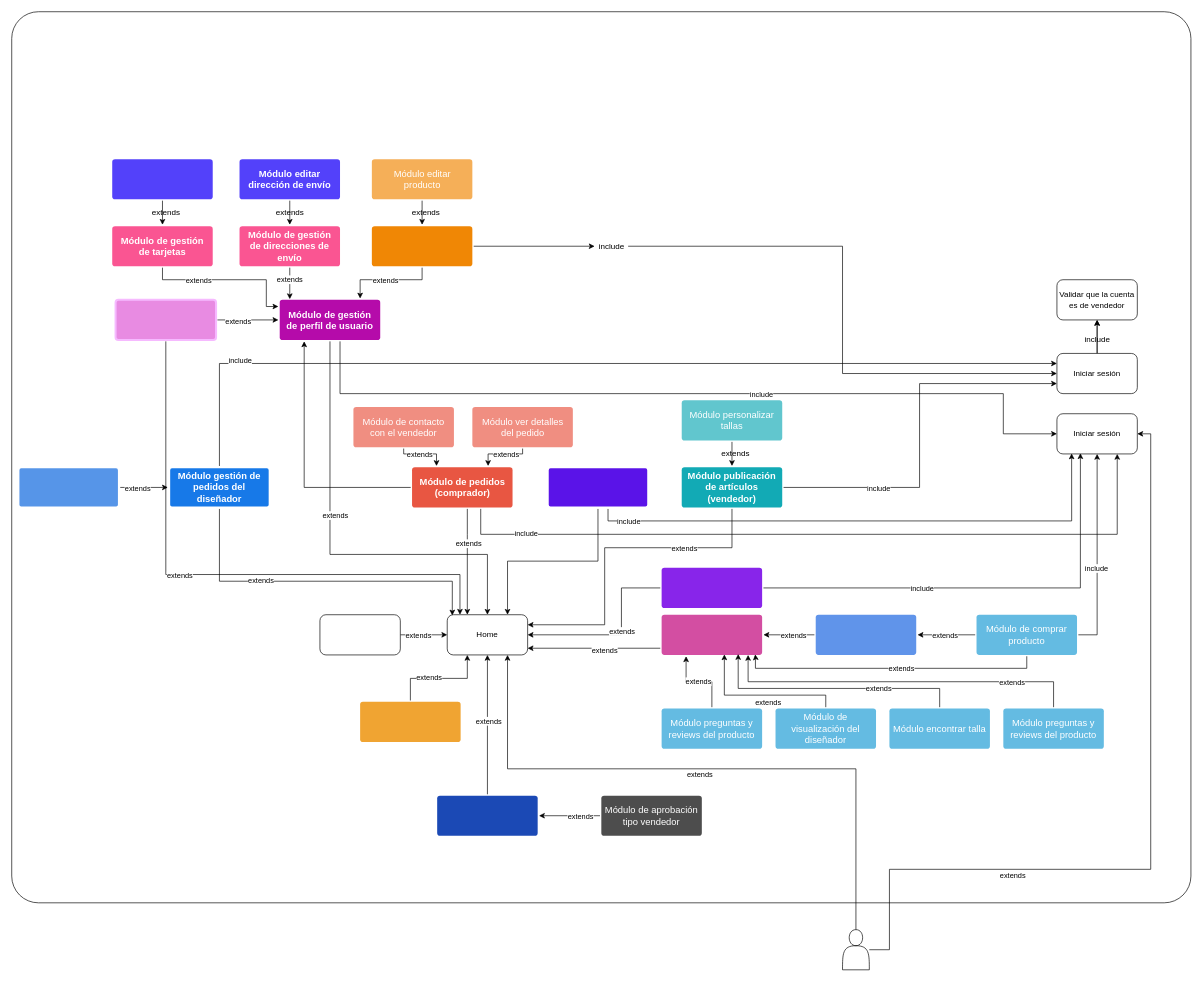
This 1203x982 diagram has some shape labels left out. Each missing label, with the centre of its shape:
"Módula lista de diseñadores seguidos" goes at (x=165, y=319).
"Módulo acceder a un pedido individual del diseñador" goes at (x=68, y=487).
"Módulo carrito de compra" goes at (x=865, y=634).
"Módulo de registro de cuenta como vendedor" goes at (x=487, y=815).
"Módulo de trending topic" goes at (x=410, y=721).
"Módulo editar tarjeta" goes at (x=162, y=179).
"Módulo gestionar producto" goes at (x=422, y=246).
"Módulo lista de deseos" goes at (x=711, y=587).
"Módulo notificaciones" goes at (x=597, y=487).
"Módulo visualización de producto" goes at (x=711, y=634).
"Registrarse" goes at (x=359, y=634).
